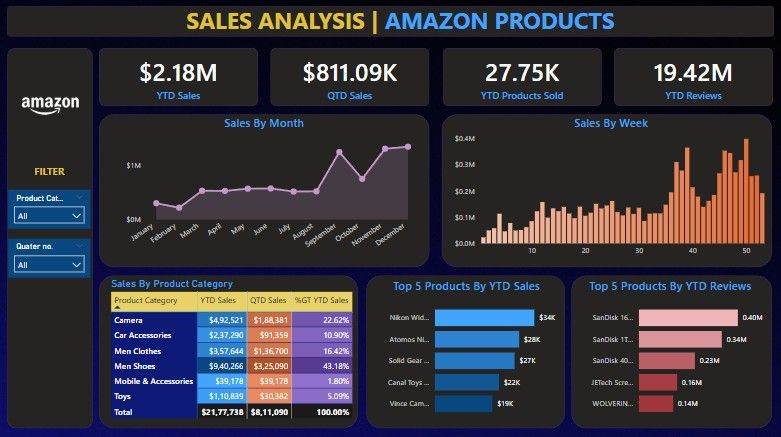

The page's visual inventory and layout, read from the dashboard file:
{"tool":"powerbi","page":{"name":"Page 1","canvas":[1280,720],"ordinal":0},"visuals":[{"type":"shape","box":[13.3,10,1253.3,50],"z":0},{"type":"shape","box":[163.3,78.3,260,95],"z":0,"group":"g1"},{"type":"textbox","box":[283.3,1.7,745,65],"z":1000},{"type":"card","fields":{"Values":["Amazon_Data.YTD Sales"]},"box":[163.3,78.3,260,96.7],"z":1000,"group":"g1"},{"type":"shape","box":[13.3,78.3,140,621.7],"z":2000},{"type":"shape","box":[724.4,78.3,260,95],"z":2000,"group":"g1"},{"type":"shape","box":[443.9,78.3,260,95],"z":3000,"group":"g1"},{"type":"shape","box":[163.3,186.7,540,250],"z":3000},{"type":"group","id":"g1","title":"Group 1","box":[163.3,78.3,1101.7,96.7],"z":4000},{"type":"shape","box":[1005,78.3,260,95],"z":4000,"group":"g1"},{"type":"card","fields":{"Values":["Amazon_Data.QTD Sales"]},"box":[443.3,78.3,260,96.7],"z":5000,"group":"g1"},{"type":"areaChart","title":"Sales By Month","fields":{"Category":["Date Table.Month"],"Y":["Sum(Amazon_Data.Price(Dollar))"]},"box":[178,187,510,249],"z":5000},{"type":"card","fields":{"Values":["Amazon_Data.Products Sold"]},"box":[725,78.3,260,96.7],"z":6000,"group":"g1"},{"type":"shape","box":[724,186,540,250],"z":6000},{"type":"card","fields":{"Values":["Amazon_Data.YTD Reviews"]},"box":[1005,78.3,260,96.7],"z":7000,"group":"g1"},{"type":"columnChart","title":"Sales By Week","fields":{"Category":["Date Table.Week"],"Y":["Sum(Amazon_Data.Price(Dollar))"]},"box":[724,186,554,250],"z":7000},{"type":"shape","box":[163.3,450,423.3,250],"z":8000},{"type":"pivotTable","title":"Sales By Product Category","fields":{"Rows":["Amazon_Data.Product Category"],"Values":["Amazon_Data.YTD Sales1","Amazon_Data.QTD Sales","Amazon_Data.YTD Sales"]},"box":[178.3,453.3,421.7,266.7],"z":9000},{"type":"shape","box":[600,450,325,250],"z":10000},{"type":"shape","box":[935,450,328.3,250],"z":11000},{"type":"clusteredBarChart","title":"Top 5 Products By YTD Sales","fields":{"Category":["Amazon_Data.Product Description"],"Y":["Amazon_Data.YTD Sales"]},"box":[601.1,453.3,324.4,240],"z":12000},{"type":"clusteredBarChart","title":"Top 5 Products By YTD Reviews","fields":{"Category":["Amazon_Data.Product Description"],"Y":["Amazon_Data.YTD Reviews"]},"box":[935.6,453.3,324.4,240],"z":13000},{"type":"slicer","fields":{"Values":["Amazon_Data.Product Category"]},"box":[14.8,310.5,134.6,63.6],"z":14000},{"type":"slicer","fields":{"Values":["Date Table.Quater no."]},"box":[14.8,390.4,134.6,63.6],"z":15000},{"type":"image","box":[28.1,109.4,110.9,125.7],"z":16000},{"type":"textbox","box":[19.2,263.2,124.2,34],"z":17000}]}

Visuals, with their boxes in screenshot pixels (x1, y1, x2, y2), scaled from the page's 1280x720 canvas onto the 781x437 screenshot:
shape: region(8, 6, 773, 36)
shape: region(100, 48, 258, 105)
textbox: region(173, 1, 627, 40)
card - Amazon_Data.YTD Sales: region(100, 48, 258, 106)
shape: region(8, 48, 94, 425)
shape: region(442, 48, 601, 105)
shape: region(271, 48, 429, 105)
shape: region(100, 113, 429, 265)
"Group 1" group: region(100, 48, 772, 106)
shape: region(613, 48, 772, 105)
card - Amazon_Data.QTD Sales: region(270, 48, 429, 106)
"Sales By Month" areaChart: region(109, 113, 420, 265)
card - Amazon_Data.Products Sold: region(442, 48, 601, 106)
shape: region(442, 113, 771, 265)
card - Amazon_Data.YTD Reviews: region(613, 48, 772, 106)
"Sales By Week" columnChart: region(442, 113, 780, 265)
shape: region(100, 273, 358, 425)
"Sales By Product Category" pivotTable: region(109, 275, 366, 436)
shape: region(366, 273, 564, 425)
shape: region(570, 273, 771, 425)
"Top 5 Products By YTD Sales" clusteredBarChart: region(367, 275, 565, 421)
"Top 5 Products By YTD Reviews" clusteredBarChart: region(571, 275, 769, 421)
slicer - Amazon_Data.Product Category: region(9, 188, 91, 227)
slicer - Date Table.Quater no.: region(9, 237, 91, 276)
image: region(17, 66, 85, 143)
textbox: region(12, 160, 87, 180)
